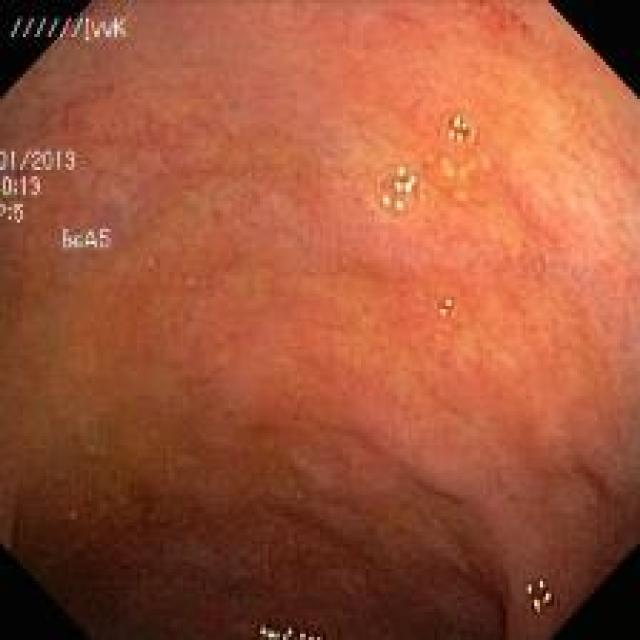ulcerative-colitis-grade-1: (2, 3, 640, 639)
